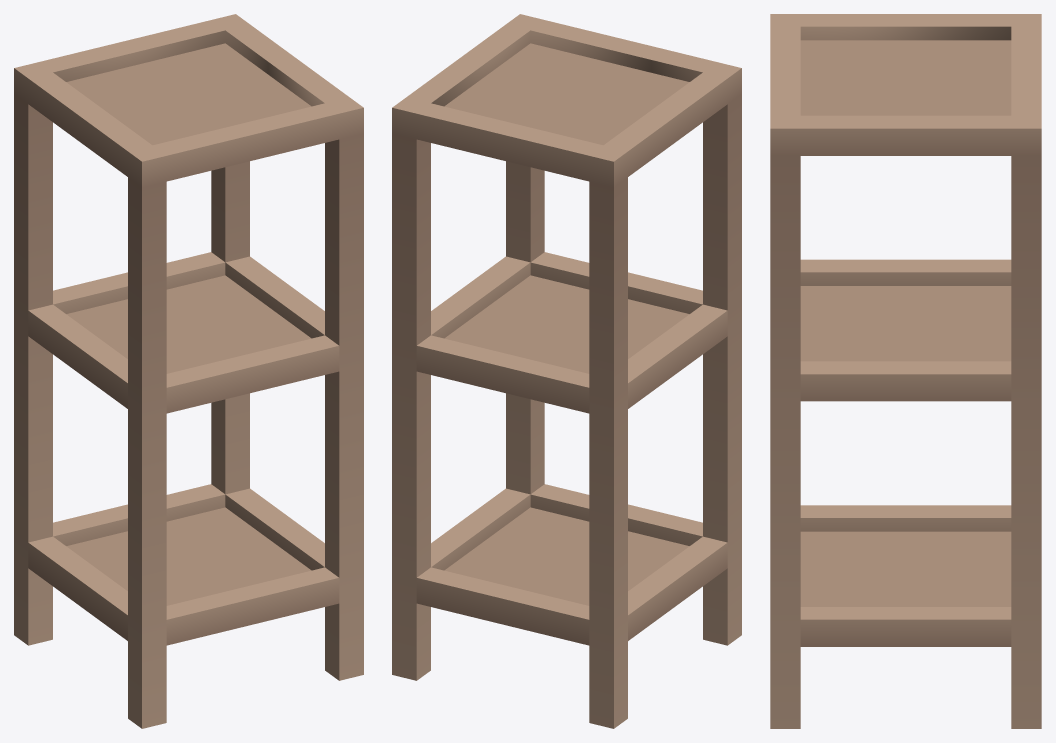
The model's file is cabinet-tall.glb.
3 views of the same model, side by side, from view 1: azimuth 30°, elevation 25°; view 2: azimuth 150°, elevation 25°; view 3: azimuth 270°, elevation 25° (orthographic). The views are drawn at different scales.
Visible parts, largest first — view 1: cabinet-tall; view 2: cabinet-tall; view 3: cabinet-tall.
Boxes of the visible parts, left/top/right/bottom form: cabinet-tall: left=14, top=14, right=363, bottom=728; cabinet-tall: left=392, top=14, right=741, bottom=728; cabinet-tall: left=770, top=14, right=1041, bottom=728.
Bounding box in the file's own units: 0.45 × 1.1 × 0.45.
